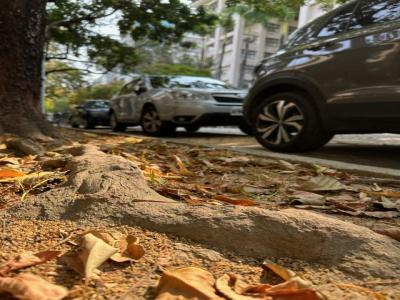Root: (7, 150, 399, 279)
